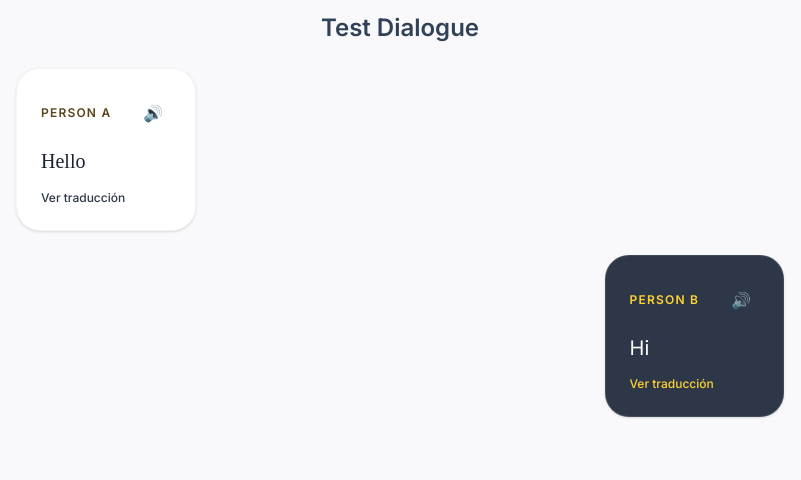
Test case: DialogueViewer › toggles translation visibility
Expected: the text "Hola" is not shown
Click "Ver traducción"
Click the button "Ver traducción" below "Hello" at (83, 198), box [41,190,125,206]
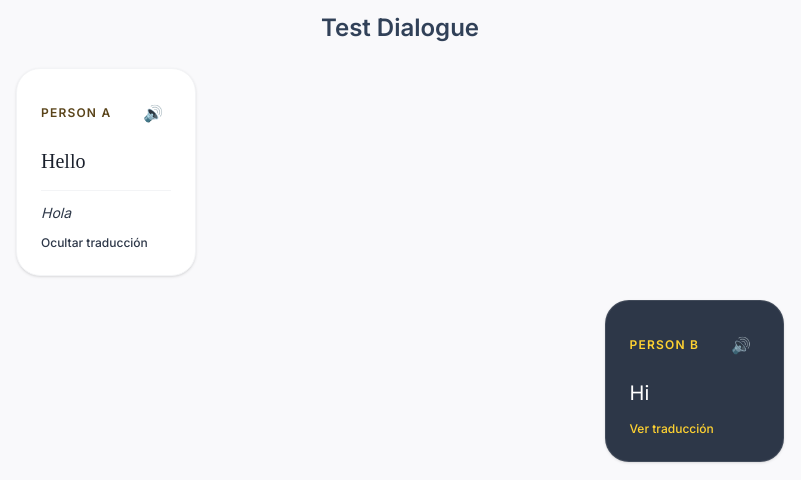
Now the text "Hola" is shown, box [41,190,171,222]
Now the button "Ver traducción" reads "Ocultar traducción", box [41,234,148,250]
